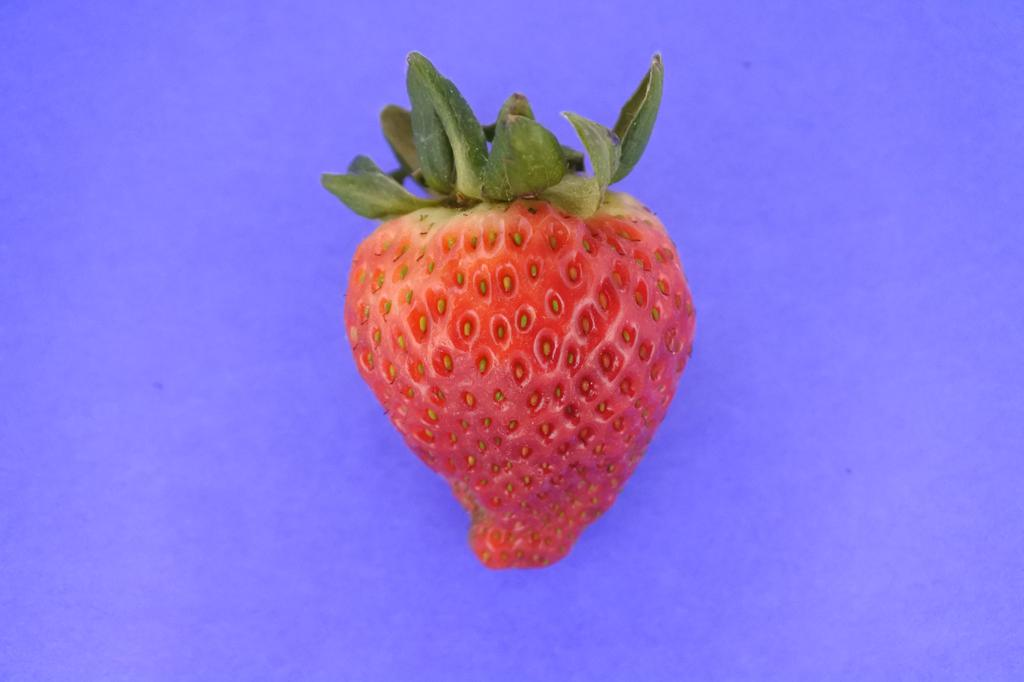red strawberry: (317, 52, 696, 571)
